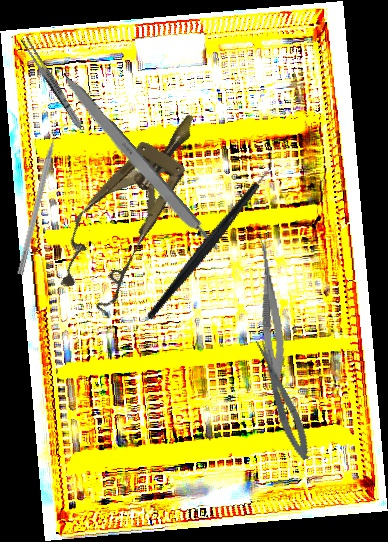Chopper: (106, 148, 316, 321), (16, 122, 70, 277)
Dressing Forceps: (18, 34, 86, 132)
Micro Scissor: (251, 335, 315, 464), (250, 232, 289, 384)
Scalpel Handle: (56, 69, 221, 257)
Speculum: (39, 93, 227, 319)
